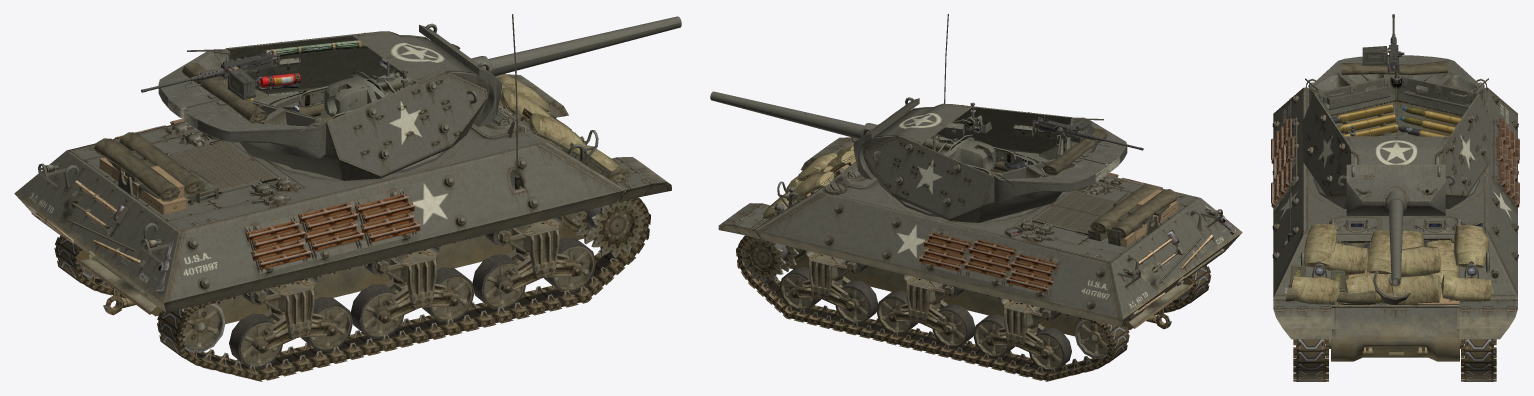
Rendered from m10_wolverine_late_prod. tanker.glb.
3 views of the same model, side by side, from view 1: azimuth 30°, elevation 25°; view 2: azimuth 150°, elevation 25°; view 3: azimuth 270°, elevation 25° (orthographic). The views are drawn at different scales.
Visible parts, largest first — view 1: hull.001, turret.001, hull2, track1.001, turret-interior, gear-optiona, hull3, weapon.001, sandbags, wheel.001, gun-interior, gear-optionc (+13 smaller); view 2: hull.001, turret.001, hull2, track1, turret-interior, hull3, gear-optiona, weapon.001, gun-interior, sandbags, wheel2, gear-optionc (+11 smaller); view 3: hull.001, turret.001, sandbags, hull3, mount.001, turret-interior, hull2, track1.001, track1, object01_us gear_4_0, gear11, weapon.001 (+14 smaller).
Part boxes in pixels (left/top/right/bottom): hull.001: left=14, top=101, right=625, bottom=353; turret.001: left=158, top=31, right=489, bottom=180; hull2: left=28, top=118, right=420, bottom=316; track1.001: left=157, top=185, right=650, bottom=381; turret-interior: left=226, top=35, right=472, bottom=122; gear-optiona: left=99, top=132, right=218, bottom=214; hull3: left=444, top=74, right=671, bottom=226; weapon.001: left=488, top=16, right=681, bottom=76; sandbags: left=496, top=74, right=618, bottom=171; wheel.001: left=572, top=200, right=644, bottom=258; gun-interior: left=298, top=69, right=416, bottom=119; gear-optionc: left=94, top=138, right=193, bottom=205; hull.001: left=755, top=162, right=1242, bottom=359; turret.001: left=862, top=103, right=1127, bottom=222; hull2: left=918, top=172, right=1236, bottom=329; track1: left=736, top=224, right=1129, bottom=381; turret-interior: left=920, top=102, right=1072, bottom=176; hull3: left=718, top=137, right=899, bottom=258; gear-optiona: left=1088, top=184, right=1178, bottom=247; weapon.001: left=710, top=91, right=864, bottom=138; gun-interior: left=920, top=133, right=1015, bottom=174; sandbags: left=763, top=124, right=879, bottom=219; wheel2: left=741, top=237, right=798, bottom=282; gear-optionc: left=1108, top=189, right=1177, bottom=246; hull.001: left=1273, top=87, right=1517, bottom=361; turret.001: left=1302, top=55, right=1490, bottom=208; sandbags: left=1290, top=224, right=1492, bottom=305; hull3: left=1272, top=197, right=1518, bottom=355; mount.001: left=1346, top=164, right=1445, bottom=215; turret-interior: left=1314, top=75, right=1479, bottom=136; hull2: left=1271, top=78, right=1519, bottom=210; track1.001: left=1293, top=339, right=1328, bottom=381; track1: left=1461, top=339, right=1496, bottom=381; object01_us gear_4_0: left=1285, top=239, right=1459, bottom=305; gear11: left=1341, top=60, right=1448, bottom=75; weapon.001: left=1389, top=199, right=1403, bottom=286.
Bounding box in the file's own units: 6.84 × 3.41 × 3.05.
Materials: 14 (13 with a texture image).
